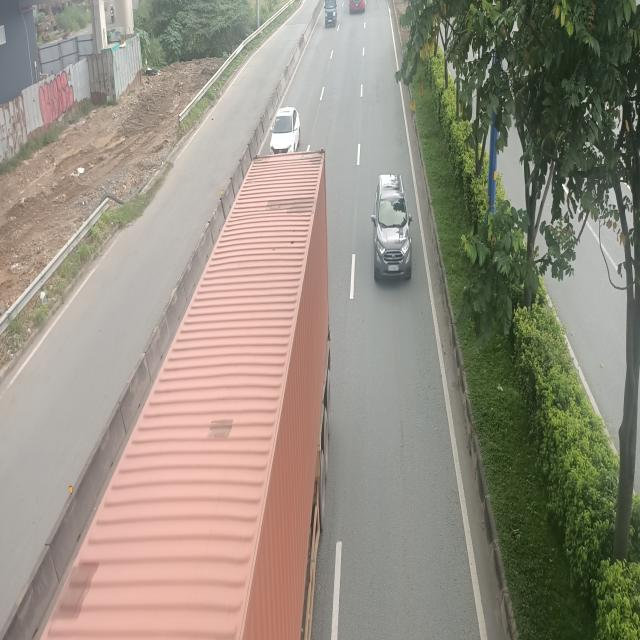car: (373, 173, 415, 284), (270, 107, 301, 157)
container: (54, 147, 343, 637)
